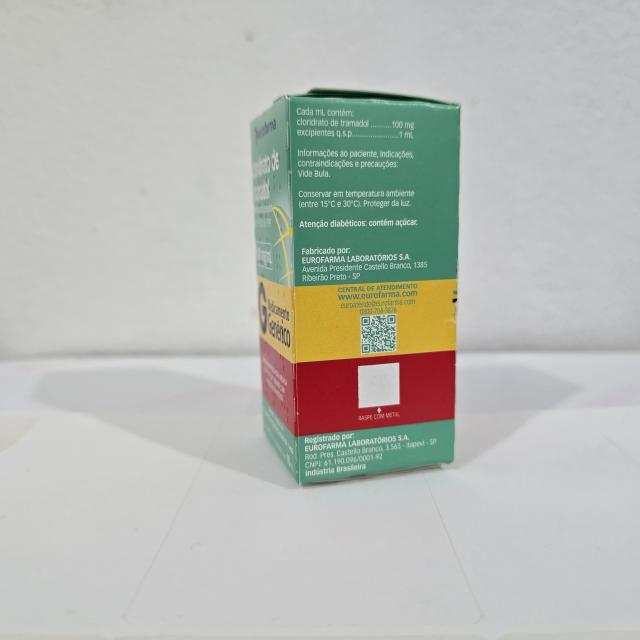tramadol: (246, 80, 464, 490)
